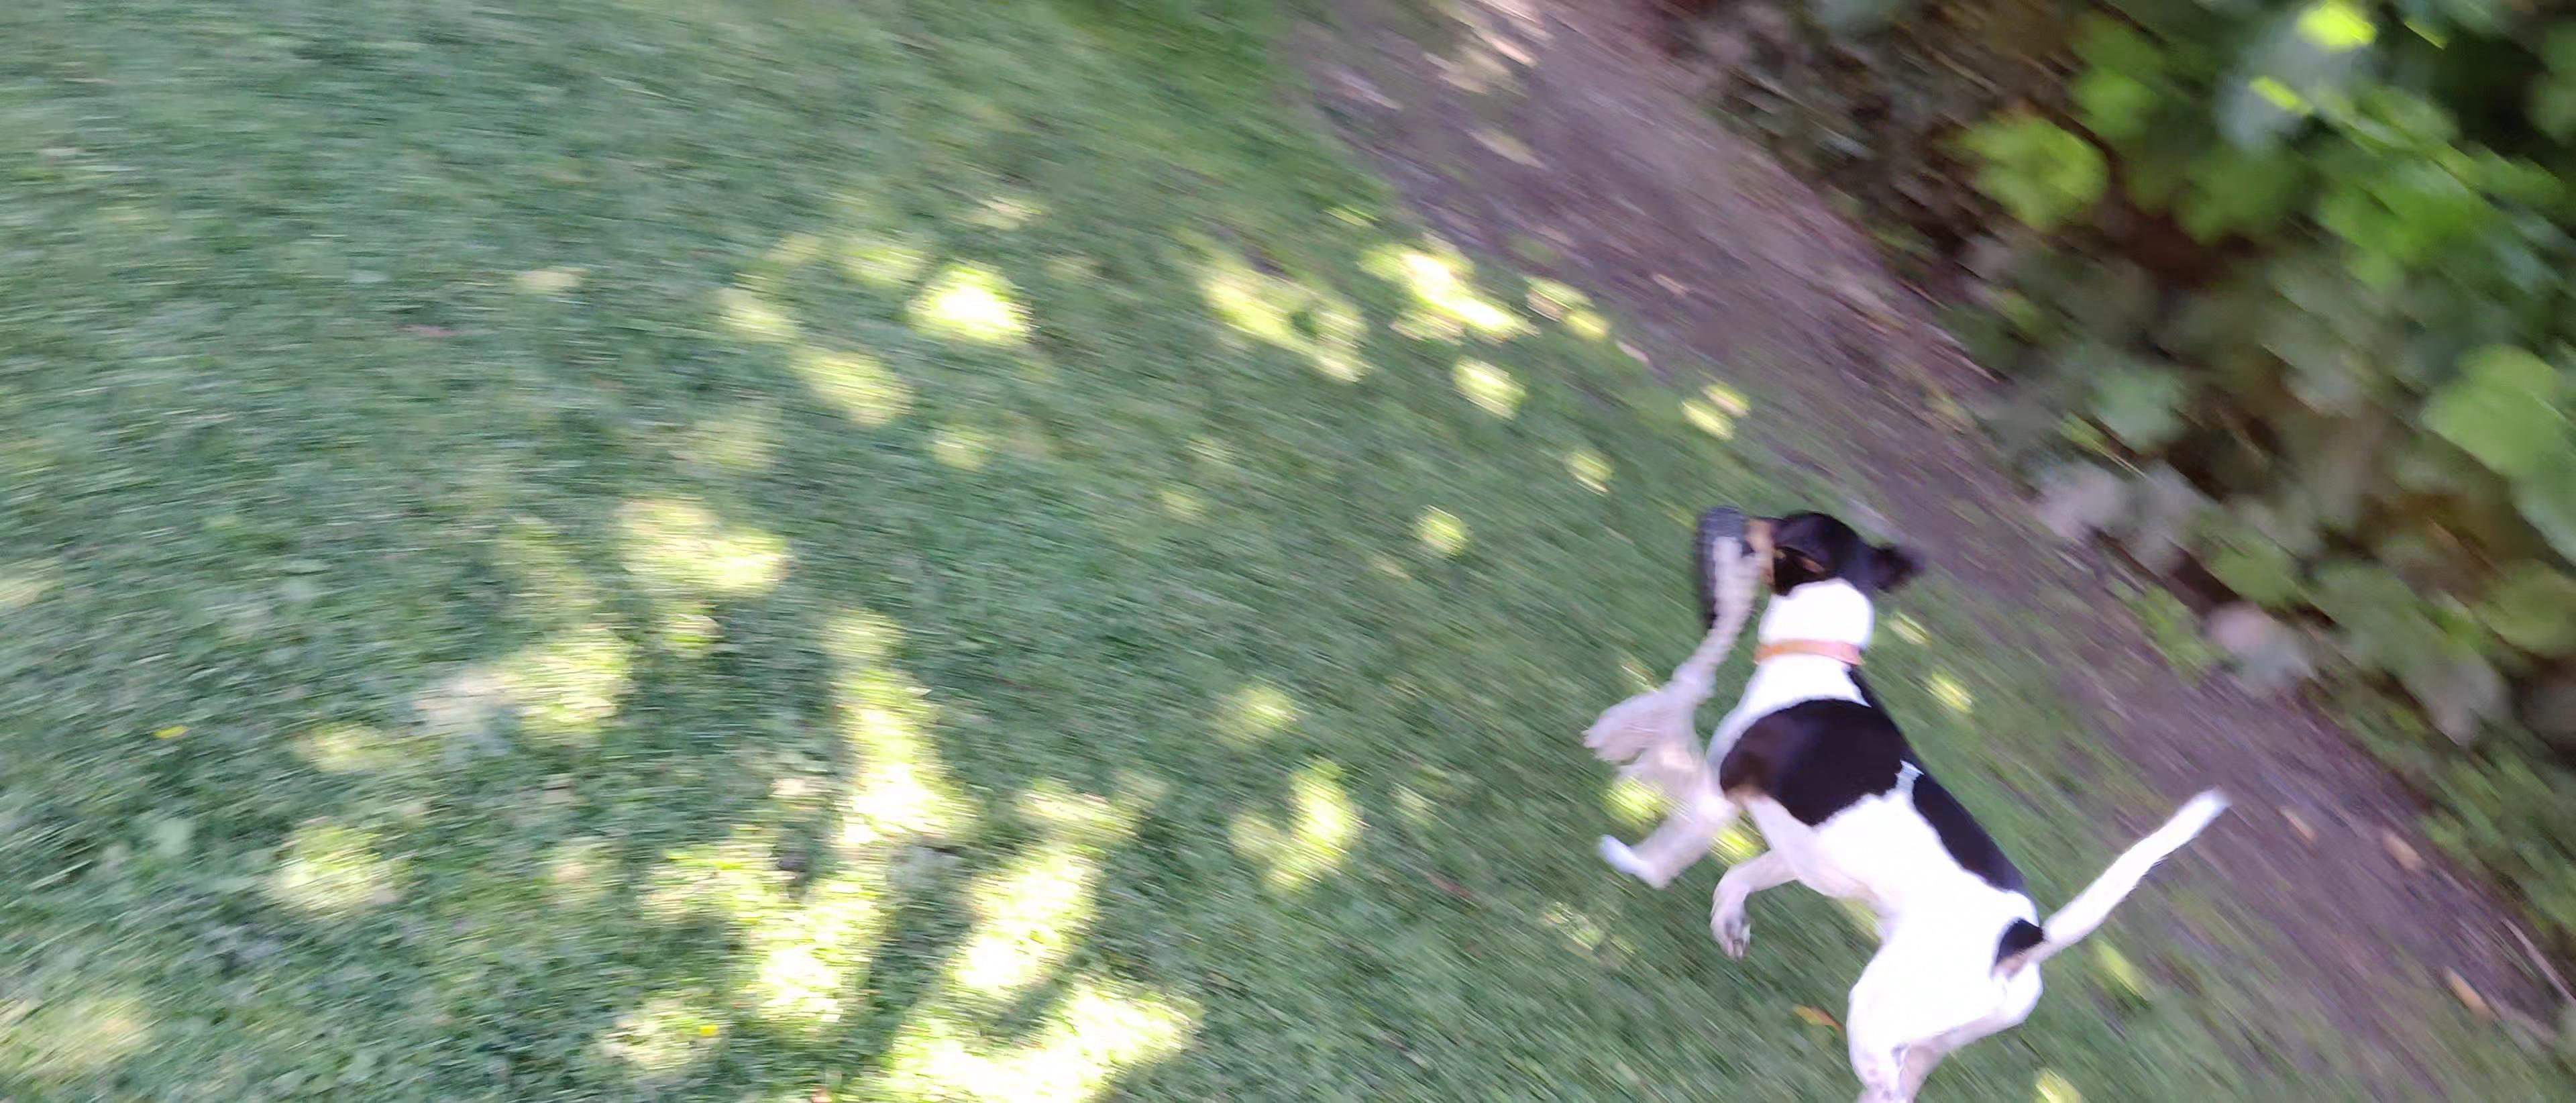Dog: (1567, 464, 2236, 1103)
